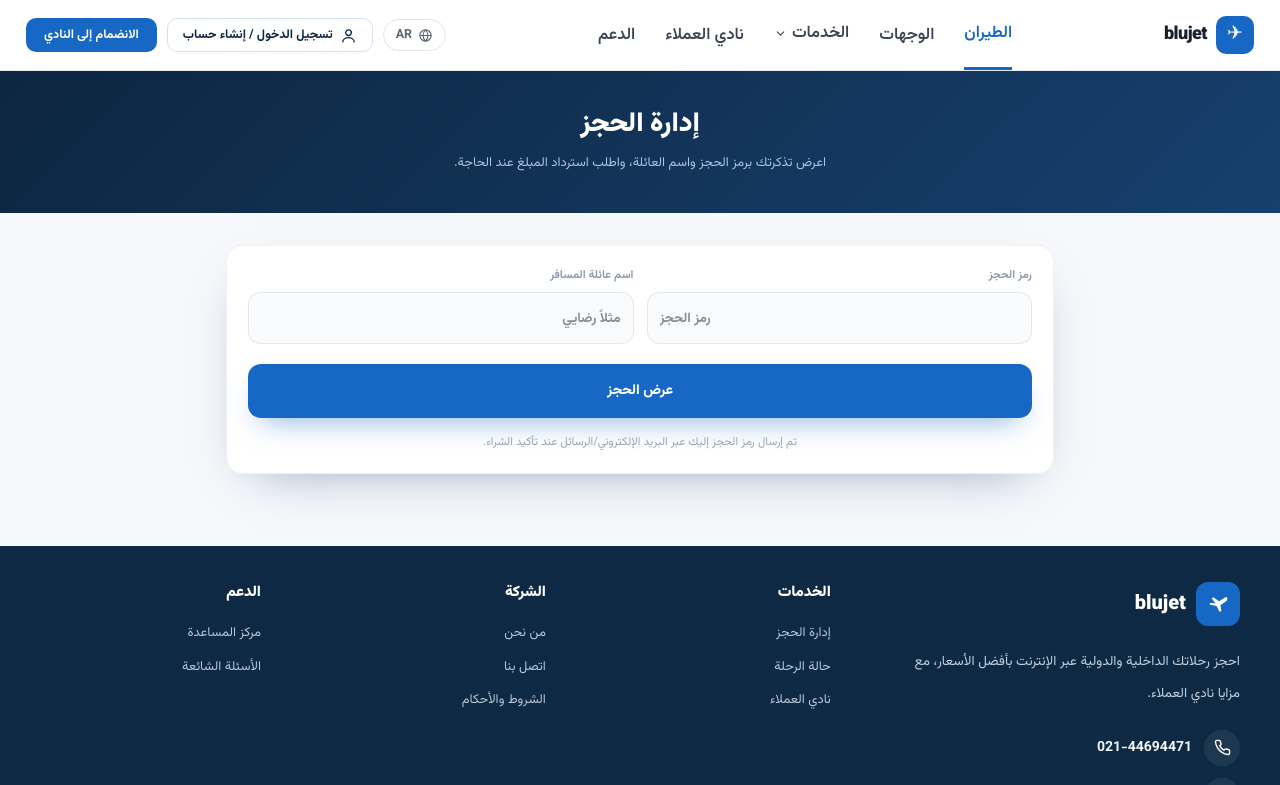
Scenario: ManageBookingPage › renders translated heading and lookup-error message in Arabic
This screenshot has width=1280, height=785.
expect the heading "إدارة الحجز" is shown: met, box [580,103,700,146]
Type "ZZZZZZ" into the field with test id "mb-pnr" at (839, 318), box [646,292,1032,344]
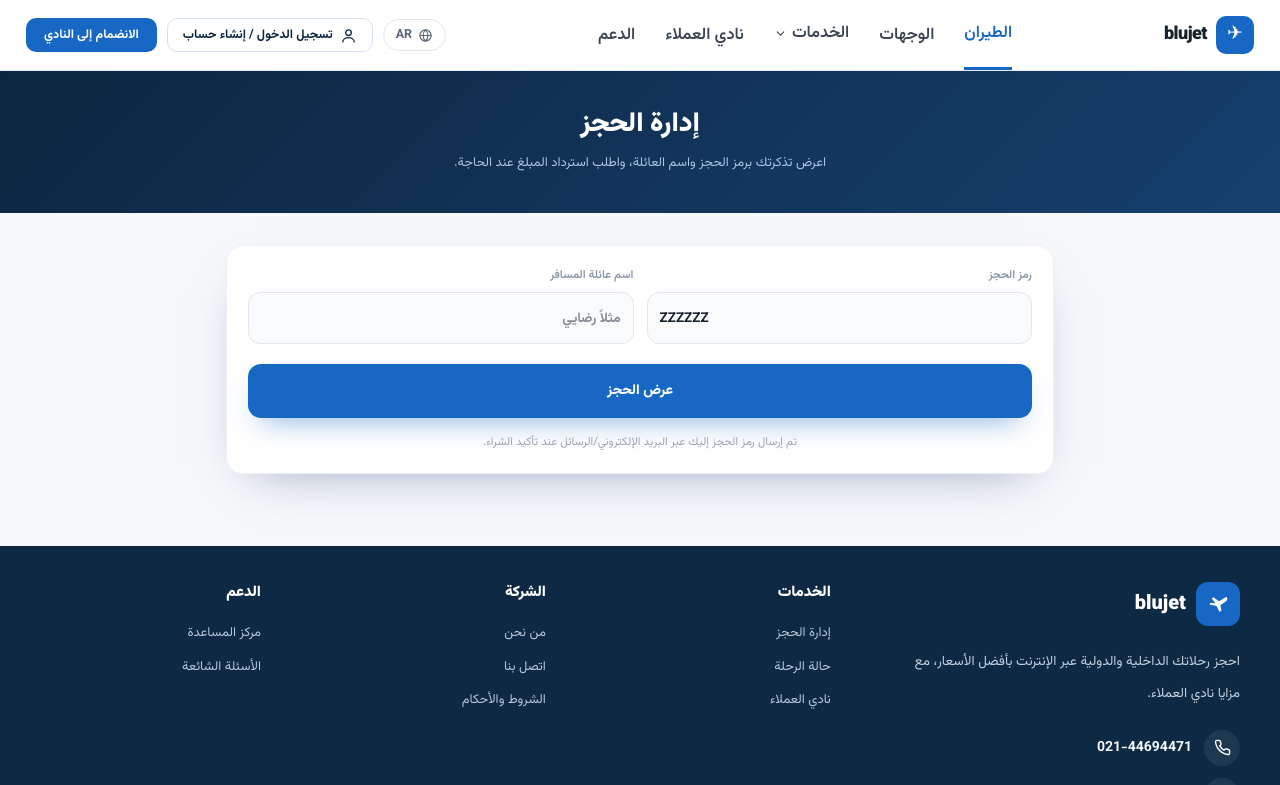
Type "ناشناس" into the field with test id "mb-lastname" at (441, 318), box [248,292,634,344]
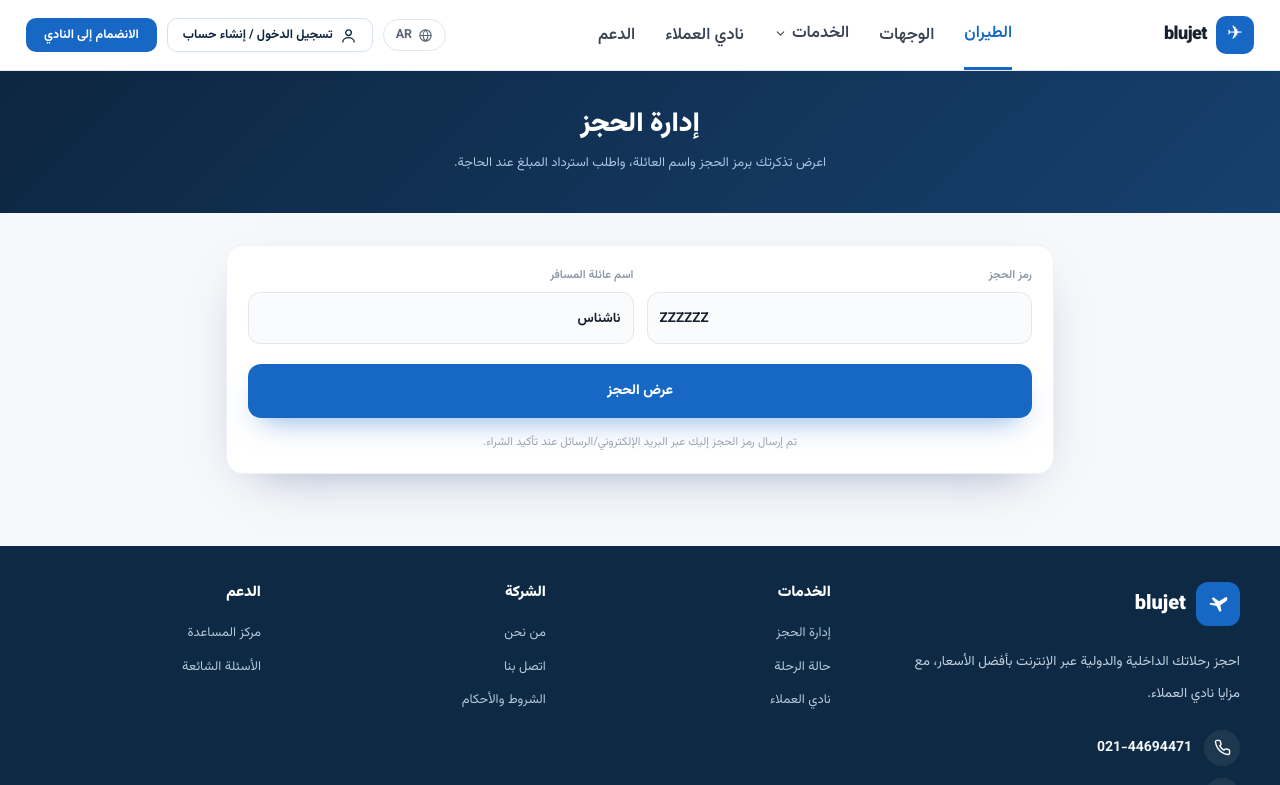
Click the button with test id "mb-lookup" at (640, 391), box [248,364,1032,418]
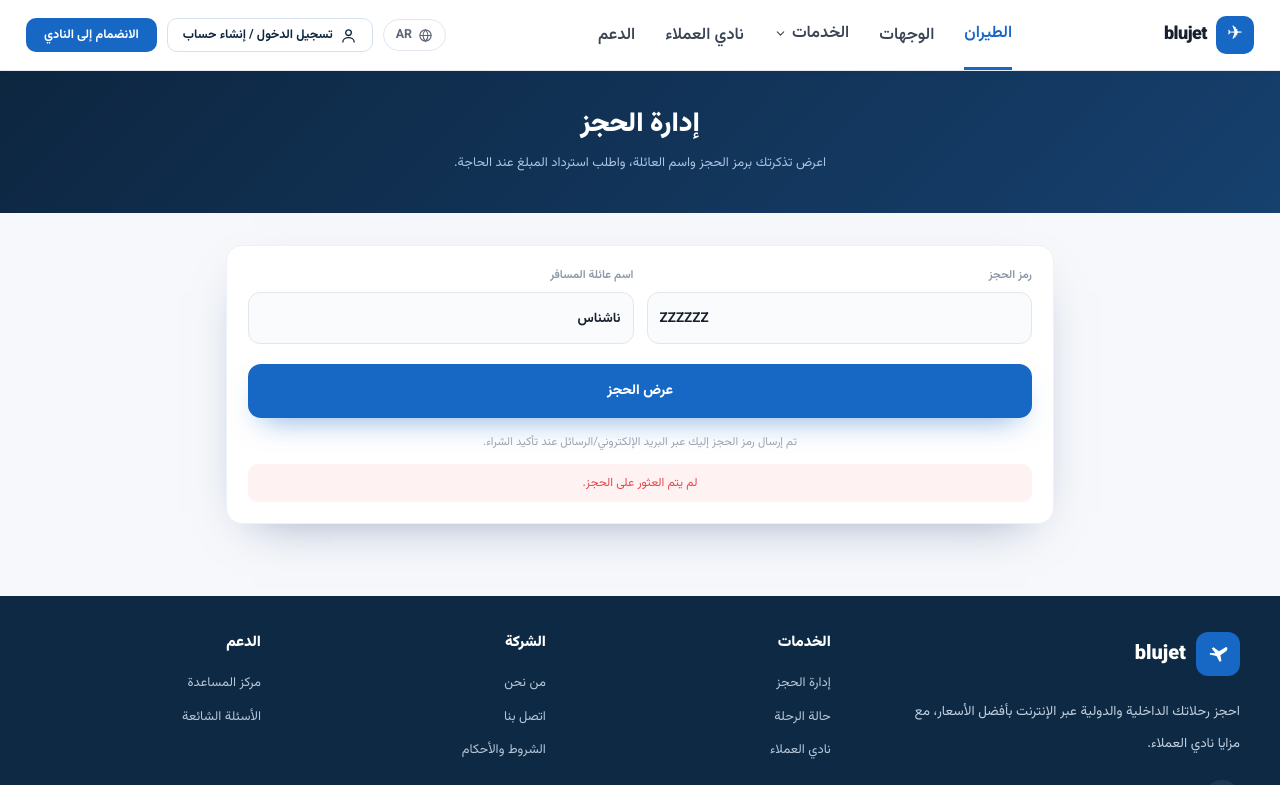
expect the text with test id "mb-lookup-error" reads "لم يتم العثور على الحجز.": met, box [583,474,697,492]
